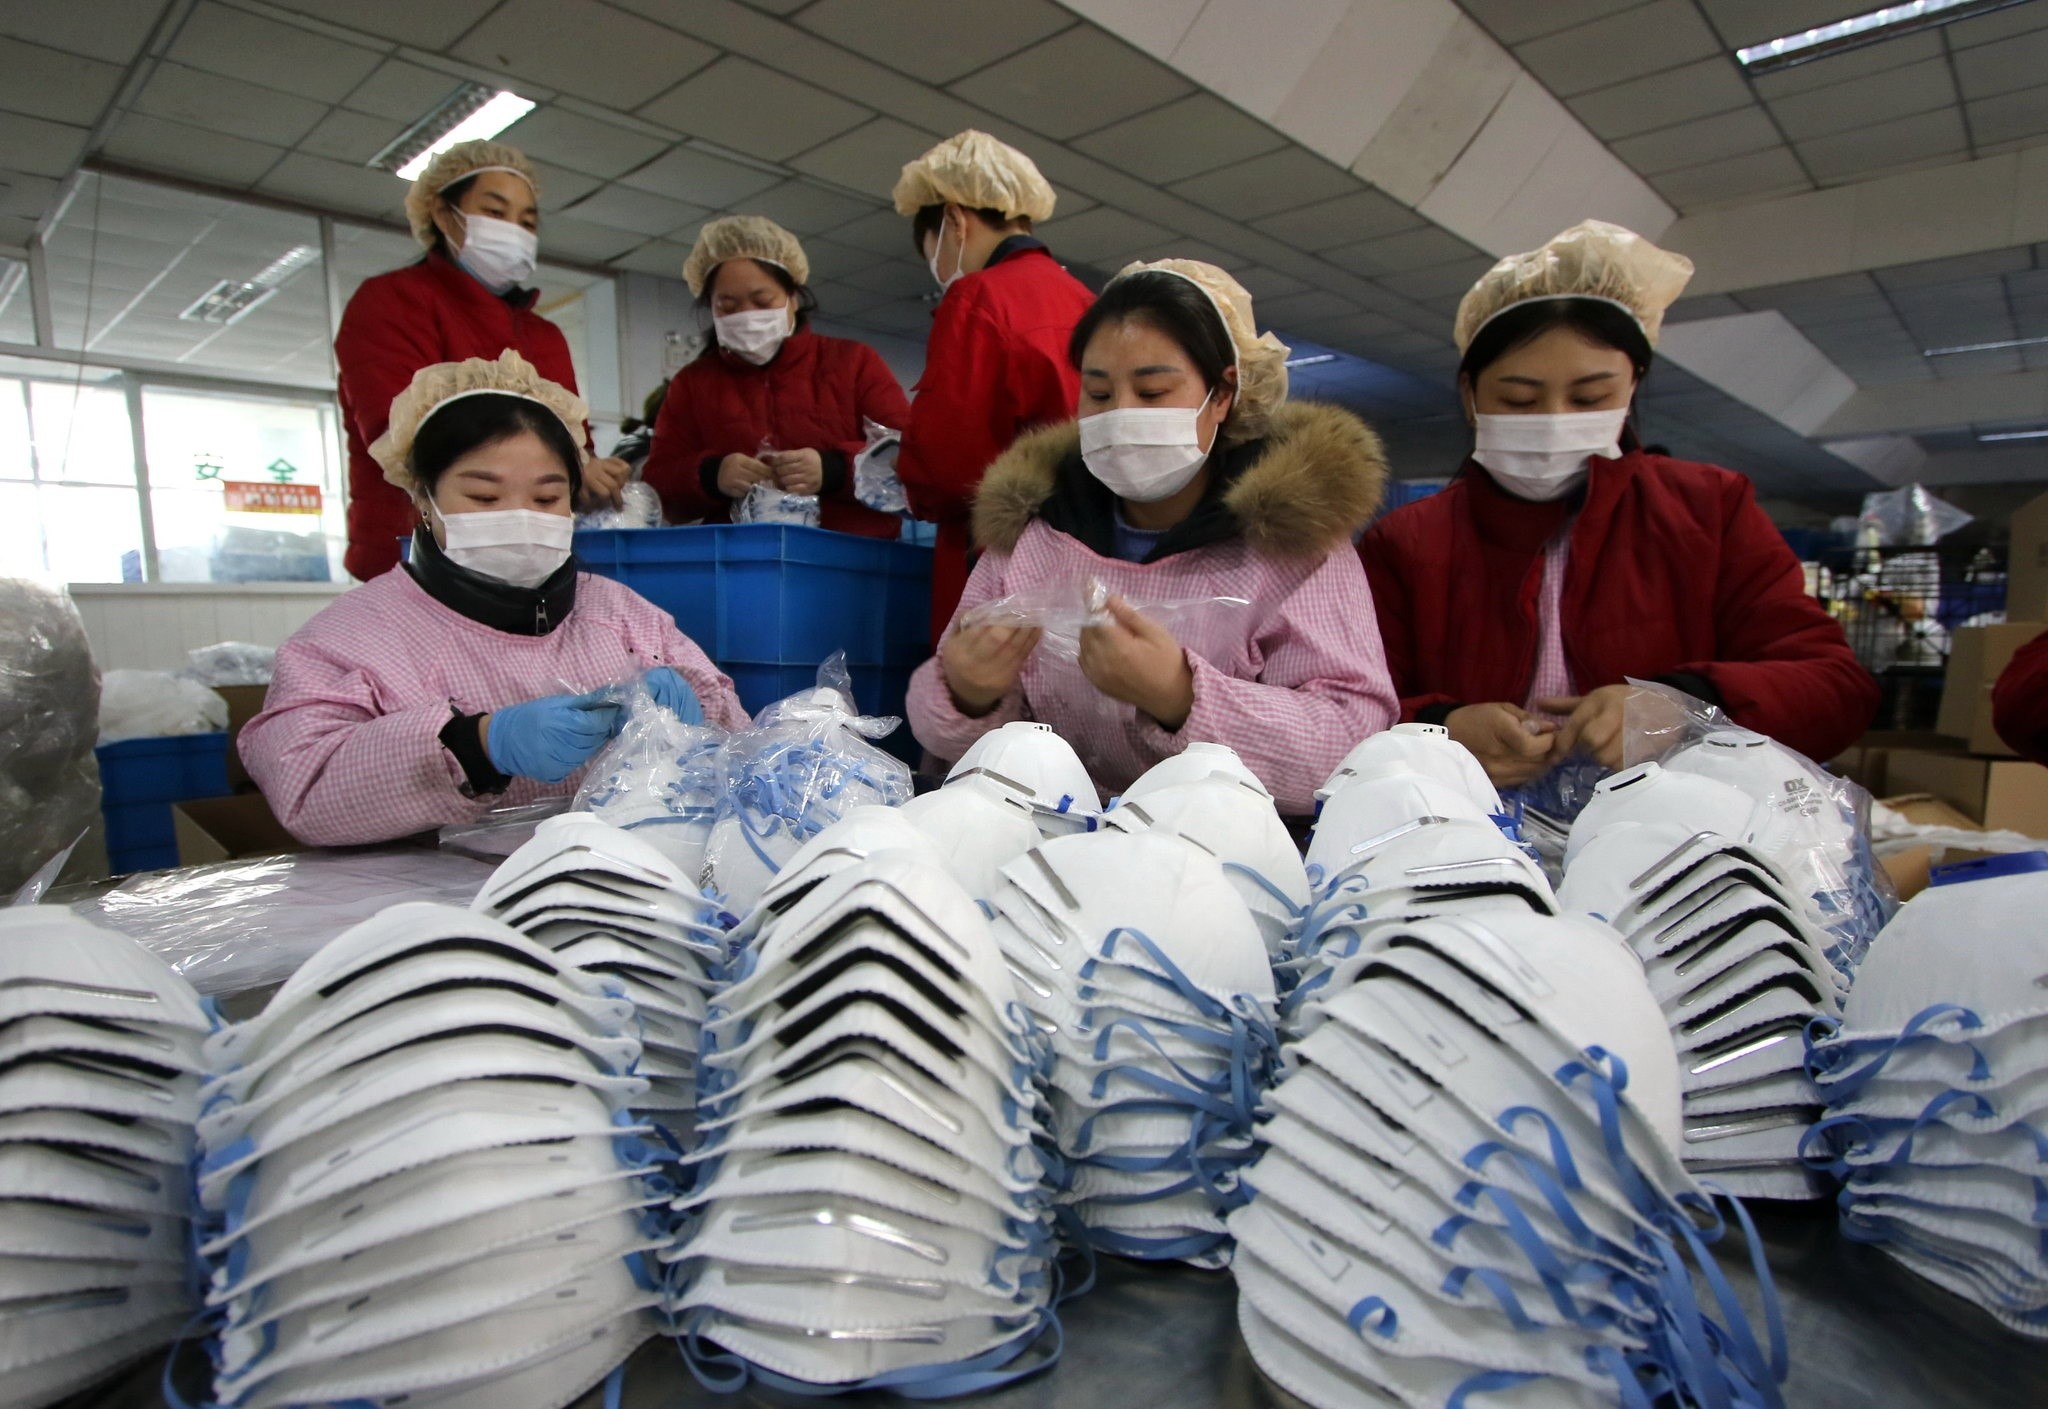face_with_mask: (393, 385, 602, 622), (1071, 266, 1254, 505), (1466, 287, 1662, 503), (407, 152, 565, 321), (908, 131, 1058, 299), (683, 227, 819, 383)
